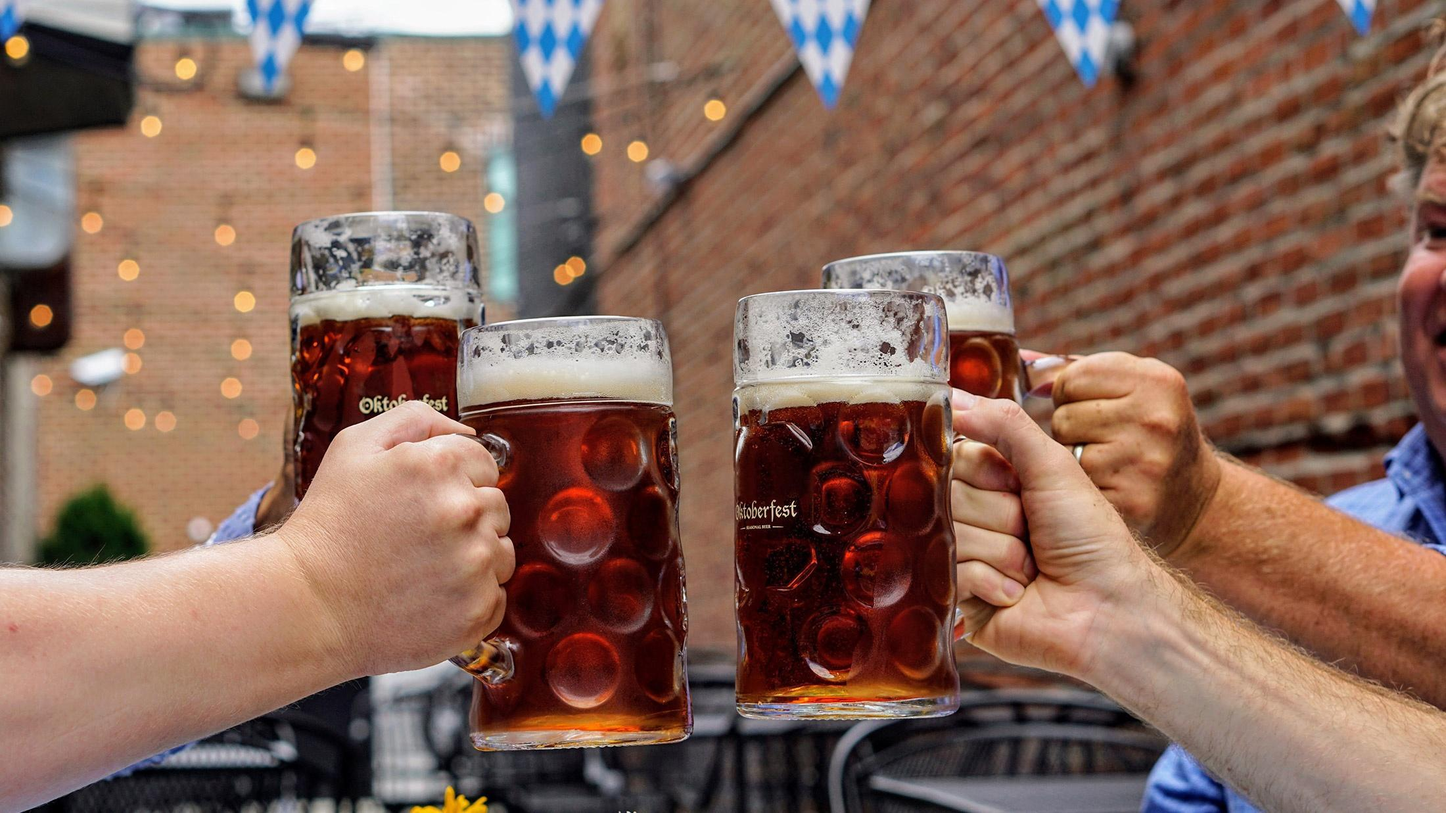glass-mug: (724, 269, 1029, 730), (441, 307, 696, 756), (817, 248, 1101, 643), (280, 210, 484, 554)
